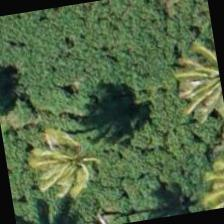Kelapa_Sawit: (16, 112, 119, 215)
